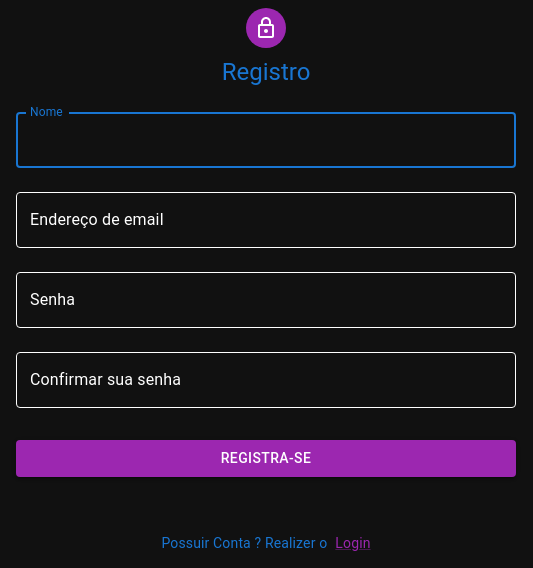
Test case: Register Page › should return error message, if the name field is empty
Click the button "Registra-se" at (266, 458), box top-left (16, 440), bottom-right (516, 476)
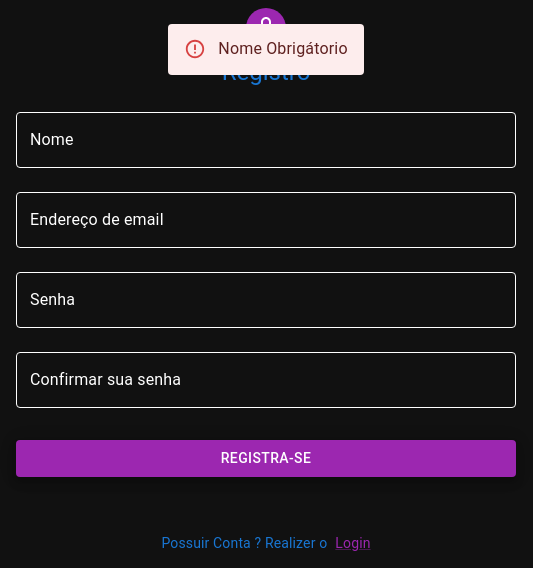
Check: the text "Nome Obrigátorio" is shown, box top-left (218, 39), bottom-right (348, 58)
